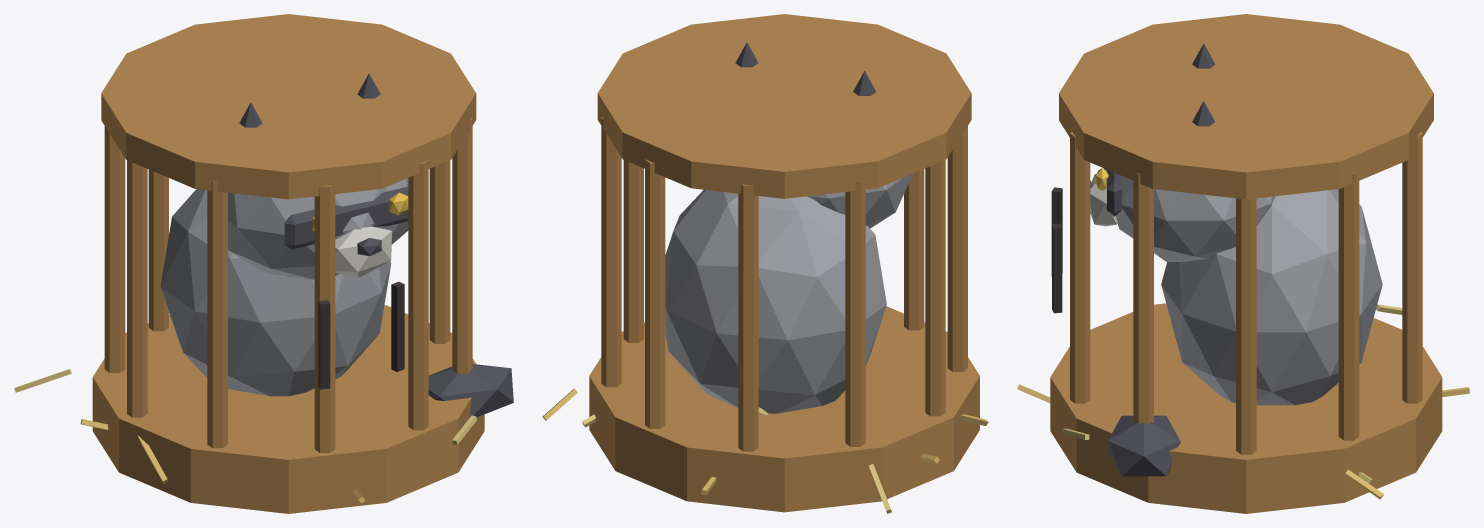
File: sm_cargo_content_raccoon_cage.glb
3 renders of one model, left to right at view 1: azimuth 30°, elevation 25°; view 2: azimuth 150°, elevation 25°; view 3: azimuth 270°, elevation 25°, orthographic.
Visible parts, largest first — view 1: Intact, Ruined, Damage, Filler; view 2: Intact, Ruined, Filler; view 3: Intact, Ruined, Damage, Filler.
Part boxes in pixels (x1,y1,x2,y2): Intact: (92,73,484,513); Ruined: (93,14,513,512); Damage: (318,281,404,389); Filler: (14,369,476,503); Intact: (589,42,979,512); Ruined: (589,14,978,489); Filler: (542,353,988,513); Intact: (1050,43,1442,513); Ruined: (1050,14,1441,513); Damage: (1051,187,1062,313); Filler: (1017,304,1469,499).
Size of the model in its own units: 0.4966 by 0.4699 by 0.5314.
